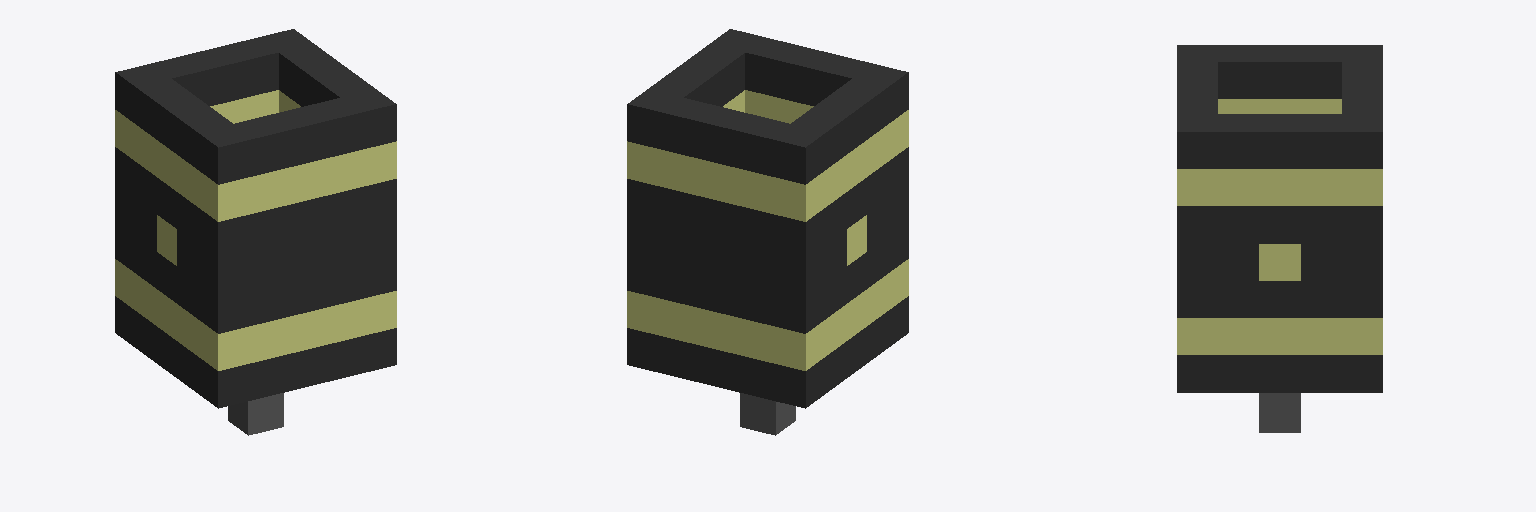
3 renders of one model, left to right at view 1: azimuth 30°, elevation 25°; view 2: azimuth 150°, elevation 25°; view 3: azimuth 270°, elevation 25°, orthographic.
Parts seen in each view (by area): view 1: Box_23; view 2: Box_23; view 3: Box_23.
Boxes of the visible parts, x1=… form: Box_23: x1=115, y1=29, x2=396, y2=435; Box_23: x1=627, y1=29, x2=908, y2=435; Box_23: x1=1177, y1=45, x2=1382, y2=432.
Bounding box in the file's own units: 5 × 9 × 5.
1 materials, 1 textured.